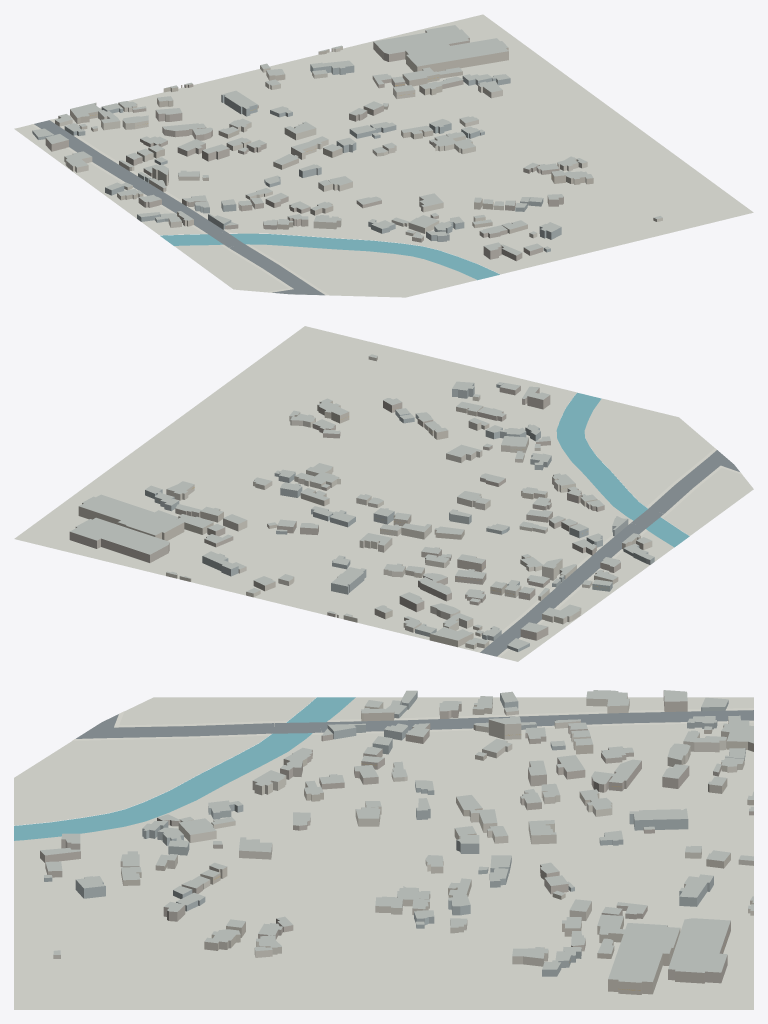
3 views of the same model, one above another, from view 1: azimuth 30°, elevation 25°; view 2: azimuth 150°, elevation 25°; view 3: azimuth 270°, elevation 25° (orthographic). The views are drawn at different scales.
Visible parts, largest first — view 1: city; view 2: city; view 3: city.
Boxes of the visible parts, <box> form: city: <box>14,14,753,297</box>; city: <box>14,326,753,661</box>; city: <box>14,690,753,1009</box>.
Size of the model in its own units: 500 by 11.78 by 500.
